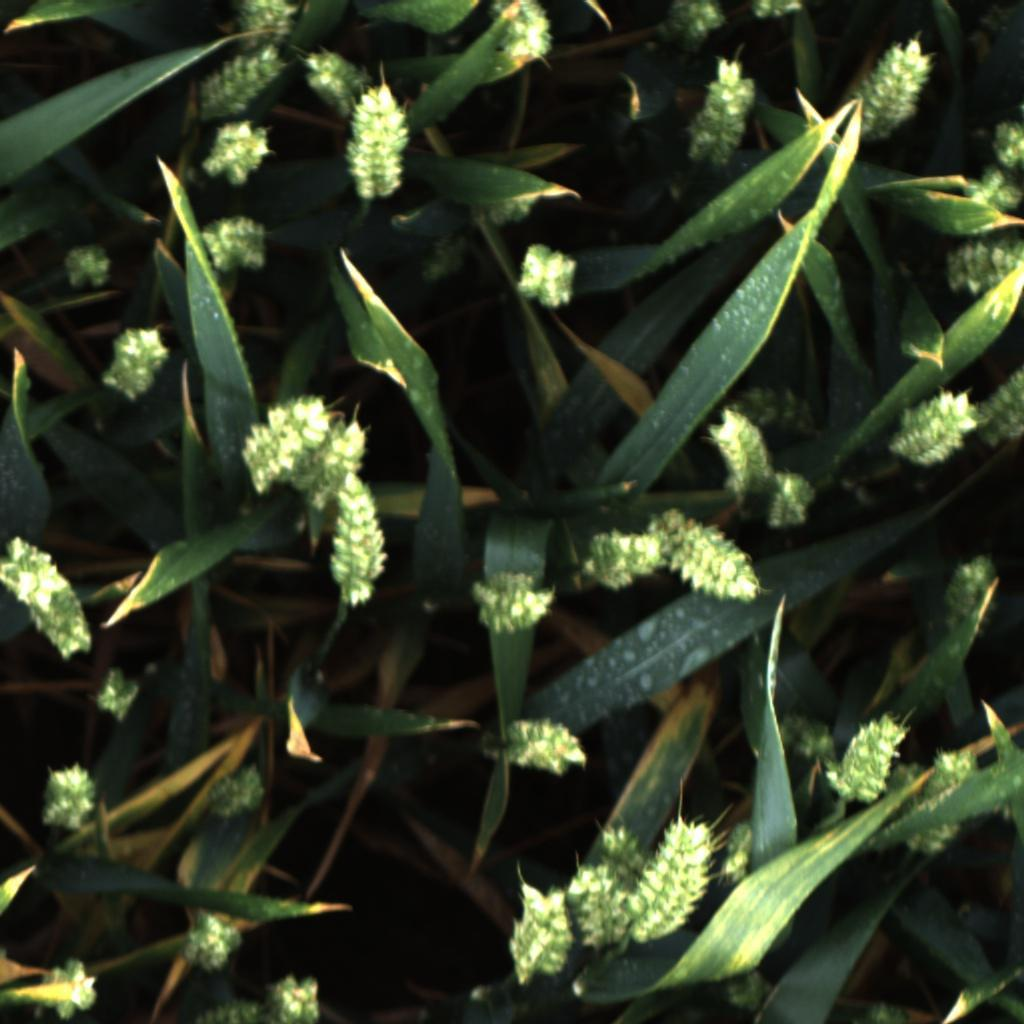0-0: (626, 815, 718, 947), (645, 506, 764, 604), (233, 391, 328, 493), (349, 77, 419, 207), (924, 548, 1014, 647), (828, 701, 913, 805), (887, 379, 977, 472), (496, 880, 572, 989), (692, 58, 765, 170), (858, 37, 937, 140), (329, 473, 387, 610), (195, 38, 288, 120), (305, 408, 379, 511), (901, 745, 969, 856), (460, 565, 563, 636), (494, 709, 595, 780), (25, 573, 100, 665), (94, 323, 176, 405), (195, 116, 284, 188), (572, 853, 633, 956), (576, 523, 664, 592), (193, 207, 274, 280), (941, 226, 1024, 294), (480, 3, 570, 65), (198, 758, 278, 827), (710, 405, 768, 499), (297, 31, 361, 116), (36, 756, 100, 838), (727, 382, 822, 437), (178, 907, 251, 977), (640, 0, 729, 57), (980, 346, 1024, 452), (0, 529, 62, 604), (32, 956, 99, 1024), (514, 243, 576, 310), (760, 467, 824, 531), (89, 664, 150, 728), (57, 235, 118, 298), (963, 161, 1023, 221), (410, 232, 470, 287), (231, 0, 299, 46), (265, 968, 320, 1024), (180, 992, 272, 1024), (723, 965, 767, 1017), (989, 117, 1024, 178), (706, 845, 754, 888), (795, 719, 836, 761), (859, 997, 912, 1023), (484, 200, 532, 227), (750, 0, 805, 23), (723, 821, 756, 858)
